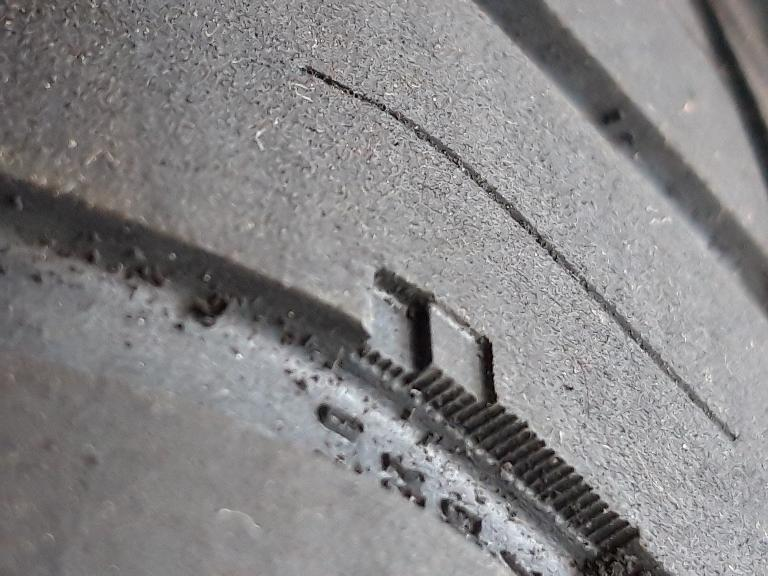temoin:25: (332, 253, 507, 447)
